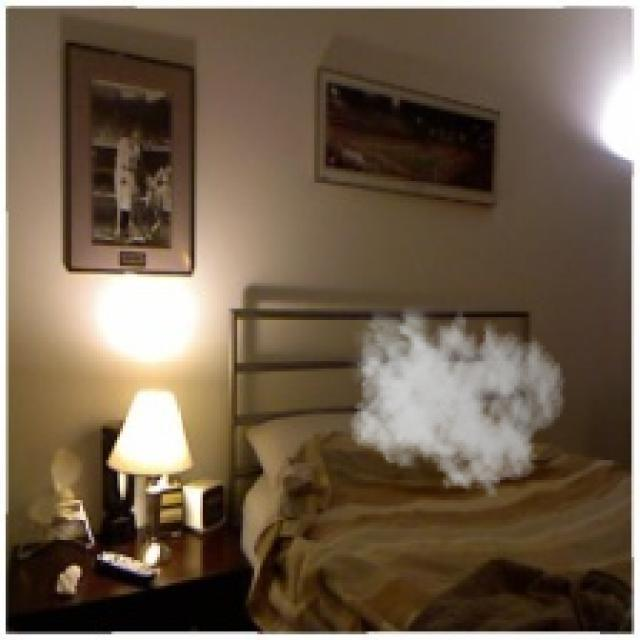Smoke: (343, 297, 566, 497)
